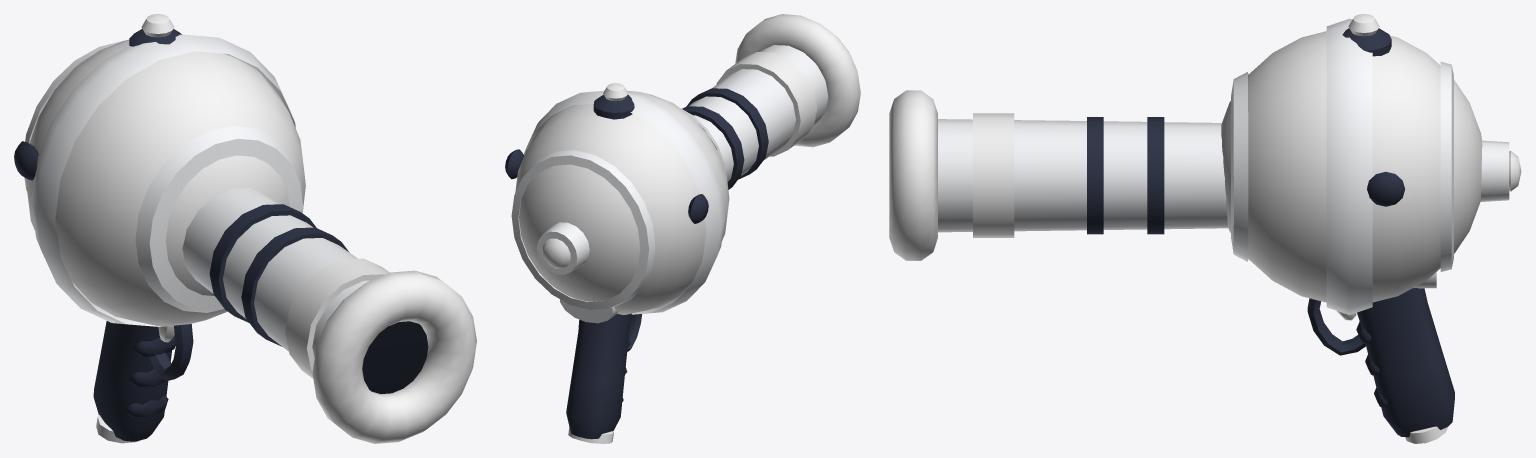
The model's file is kit_pop_well.glb.
The picture shows the model from 3 angles, left to right: view 1: azimuth 30°, elevation 25°; view 2: azimuth 150°, elevation 25°; view 3: azimuth 270°, elevation 25°; orthographic projection. The views are drawn at different scales.
Visible parts, largest first — view 1: kit_pop_well; view 2: kit_pop_well; view 3: kit_pop_well.
Part boxes in pixels (<box>): kit_pop_well: <box>14,14,476,443</box>; kit_pop_well: <box>505,14,860,443</box>; kit_pop_well: <box>889,14,1521,443</box>.
Bounding box in the file's own units: 0.235 × 0.3832 × 0.522.
